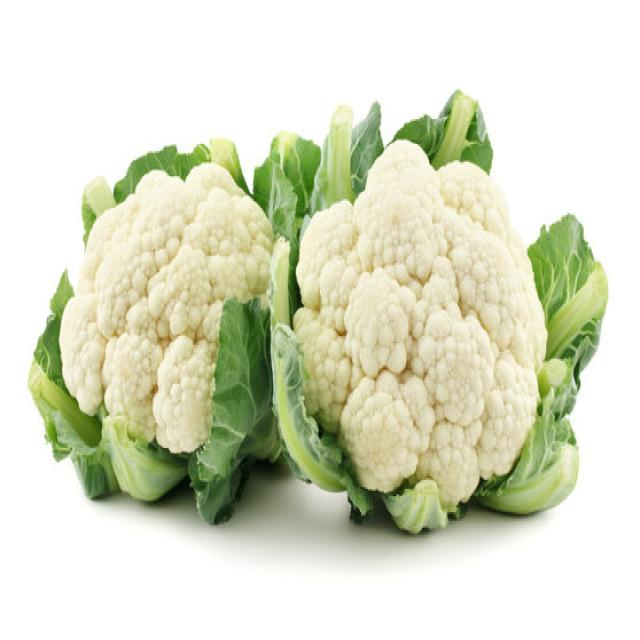Cauliflower: (294, 130, 552, 526), (57, 160, 276, 457)
